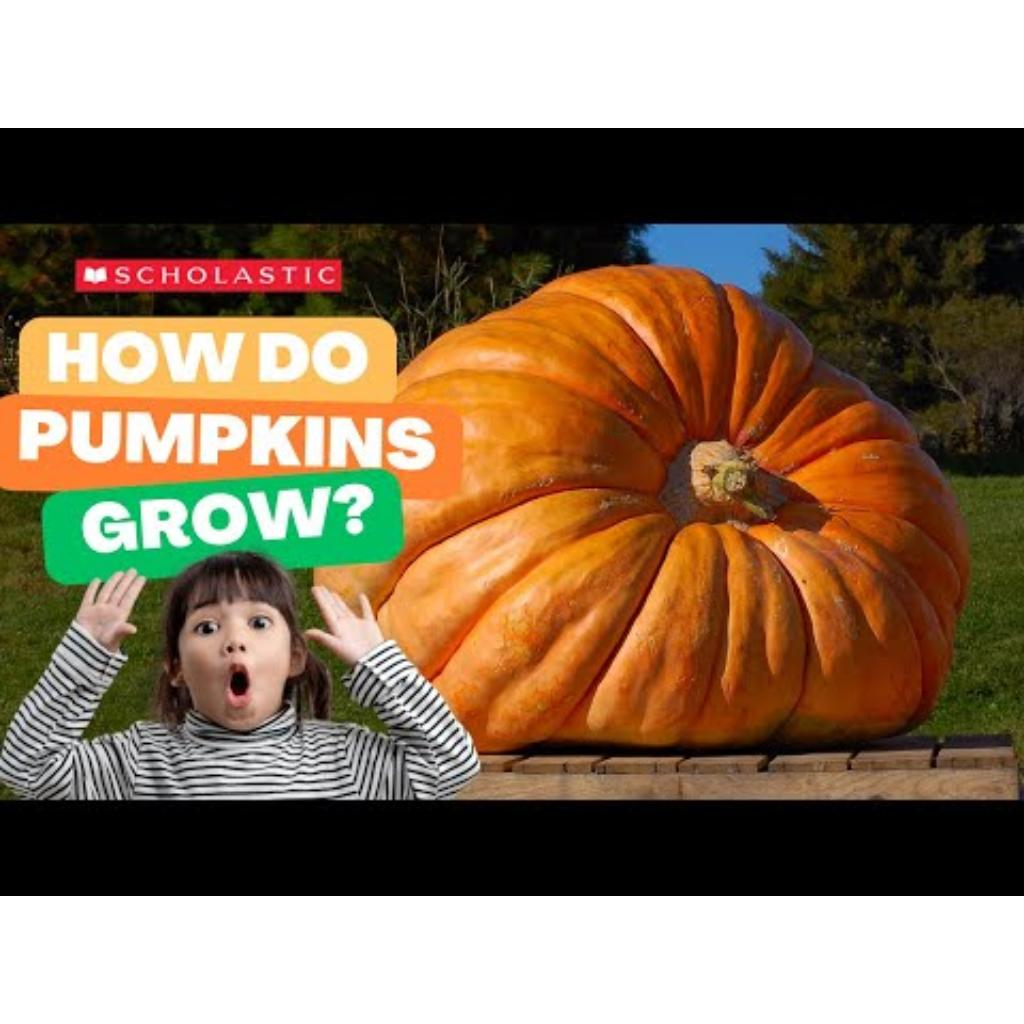pumpkin: (322, 266, 968, 751)
